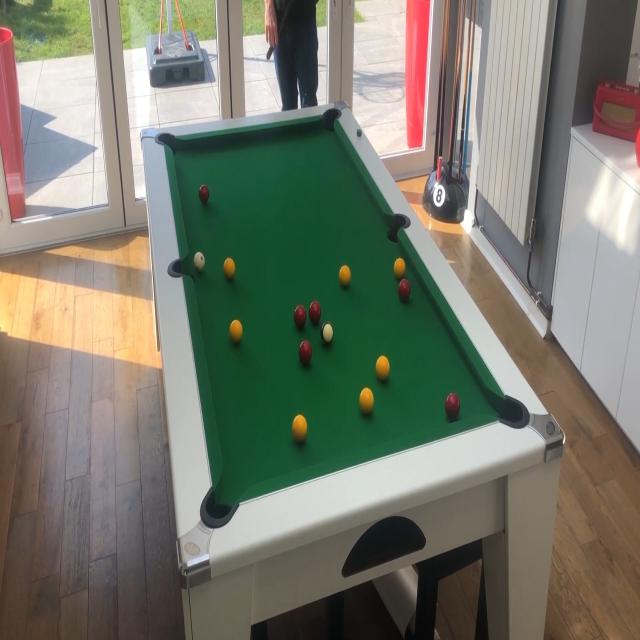Ball: (292, 414, 307, 443), (445, 392, 460, 420), (360, 388, 374, 416), (229, 319, 243, 344), (299, 339, 312, 365), (321, 322, 334, 348), (376, 356, 389, 381), (398, 279, 412, 302), (294, 305, 307, 329), (338, 264, 352, 286), (223, 257, 236, 280), (310, 300, 321, 326), (394, 258, 406, 279), (199, 183, 209, 206), (194, 251, 204, 274)
Billiard table: (140, 100, 567, 588)
